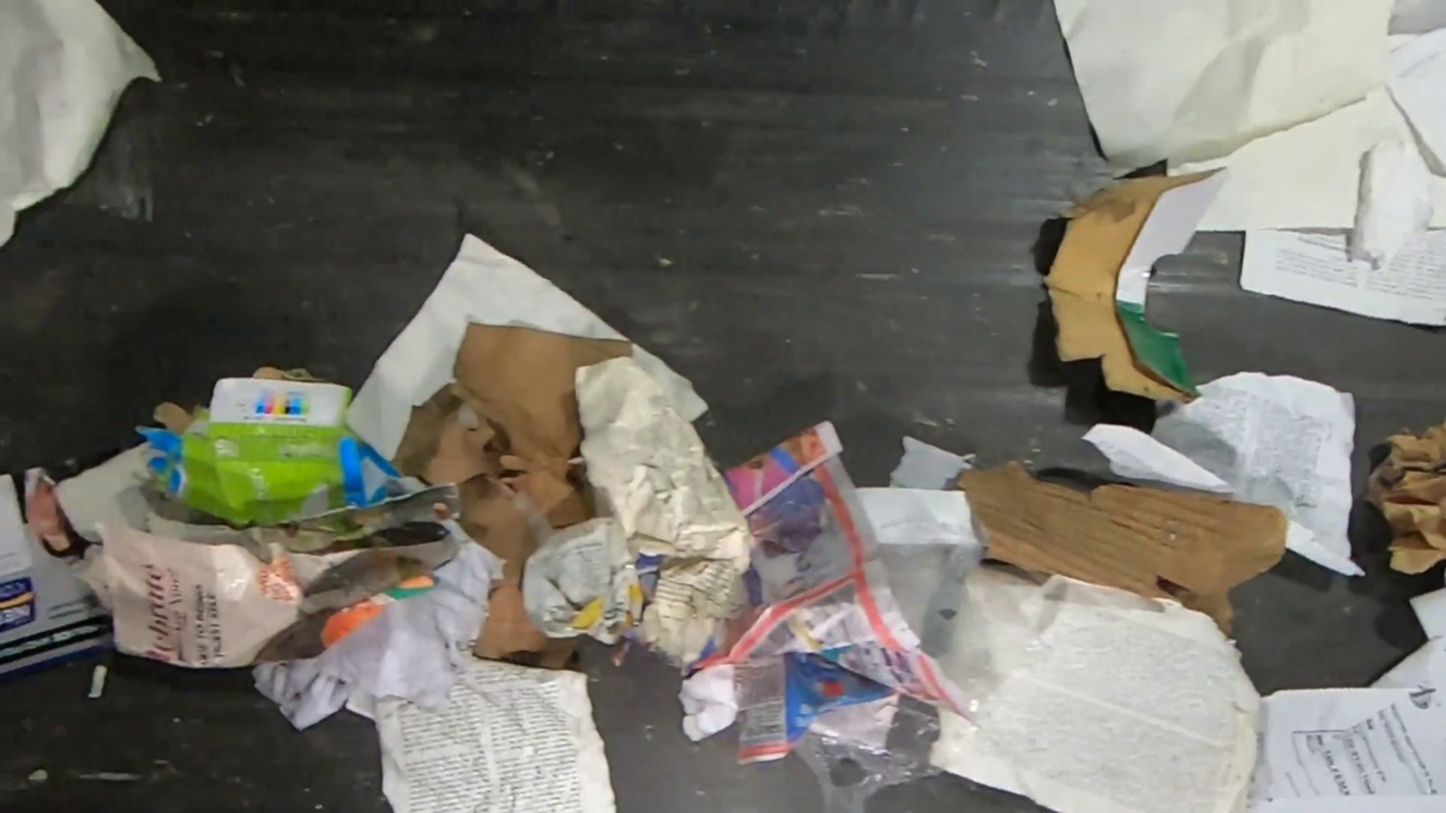cardboard: (945, 462, 1291, 639), (133, 367, 430, 528), (1043, 168, 1230, 403), (0, 465, 112, 687)
plastic: (689, 417, 1001, 813), (521, 518, 662, 647)
